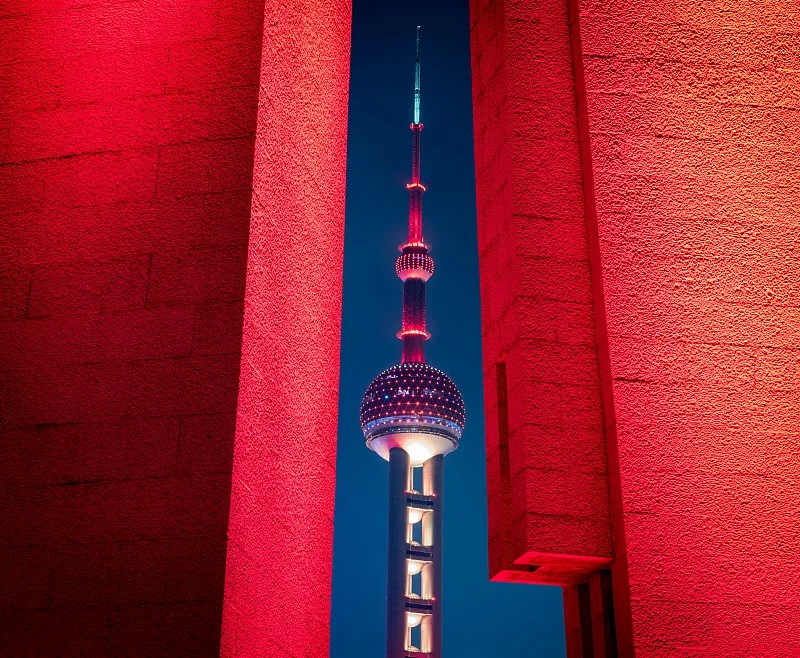Oriental: (360, 25, 466, 658)
